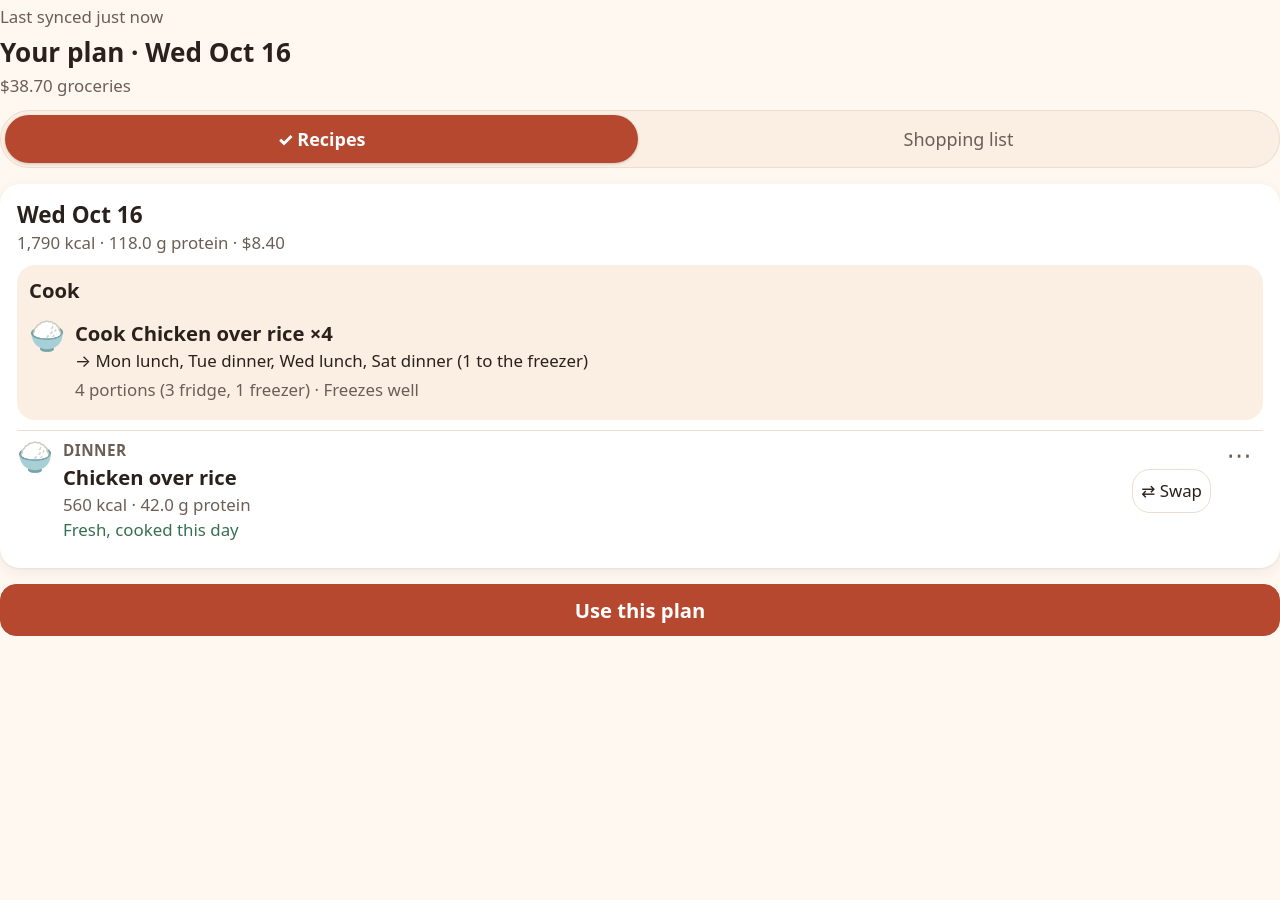
Test: a swap on a draft plan › shows the new meal, the toast with Undo, and follows the new version
Click the button with aria-label "Swap Chicken over rice" at (1172,491), box [1132,469,1211,513]
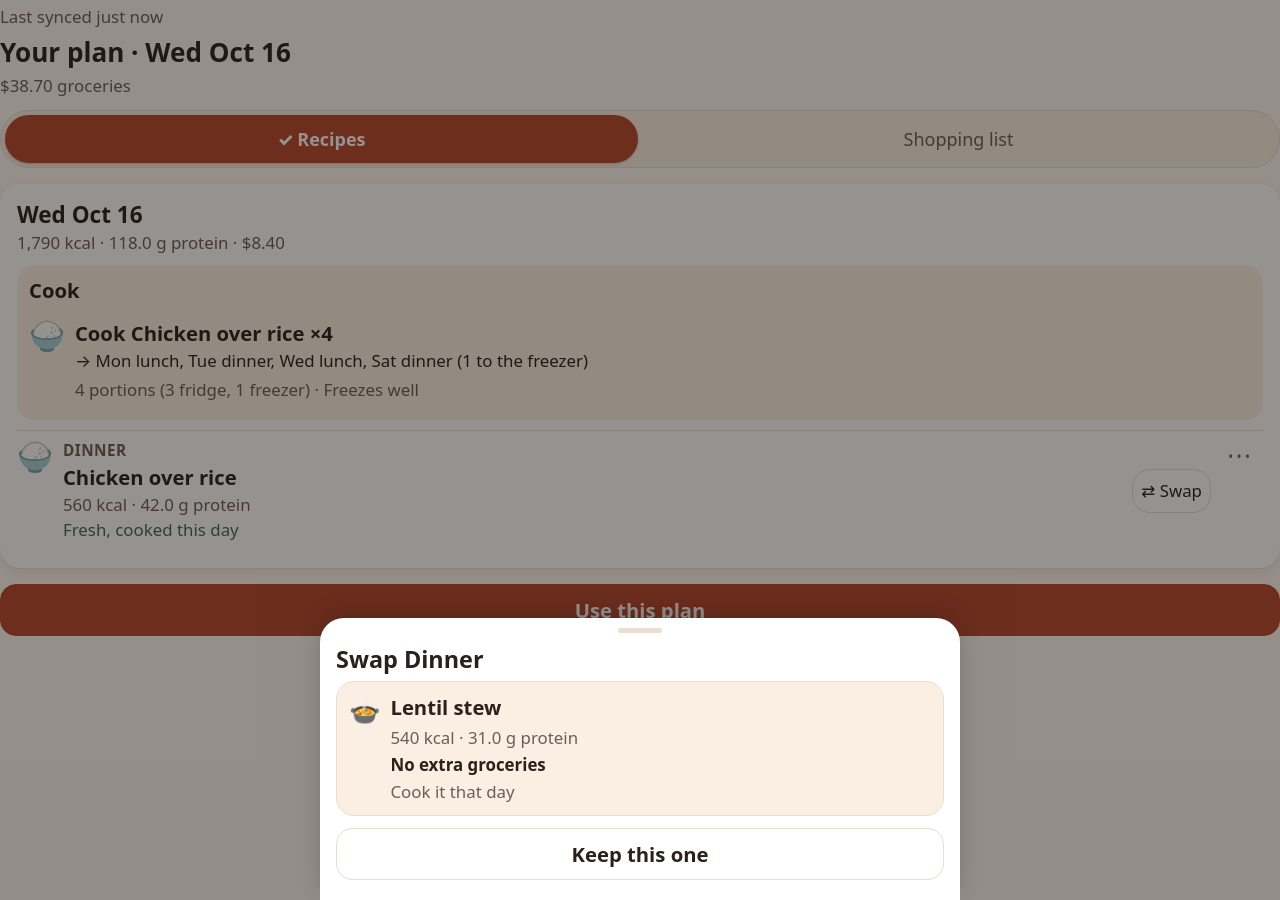
Click the button with aria-label "Swap to Lentil stew" at (365,710), box [336,681,944,816]
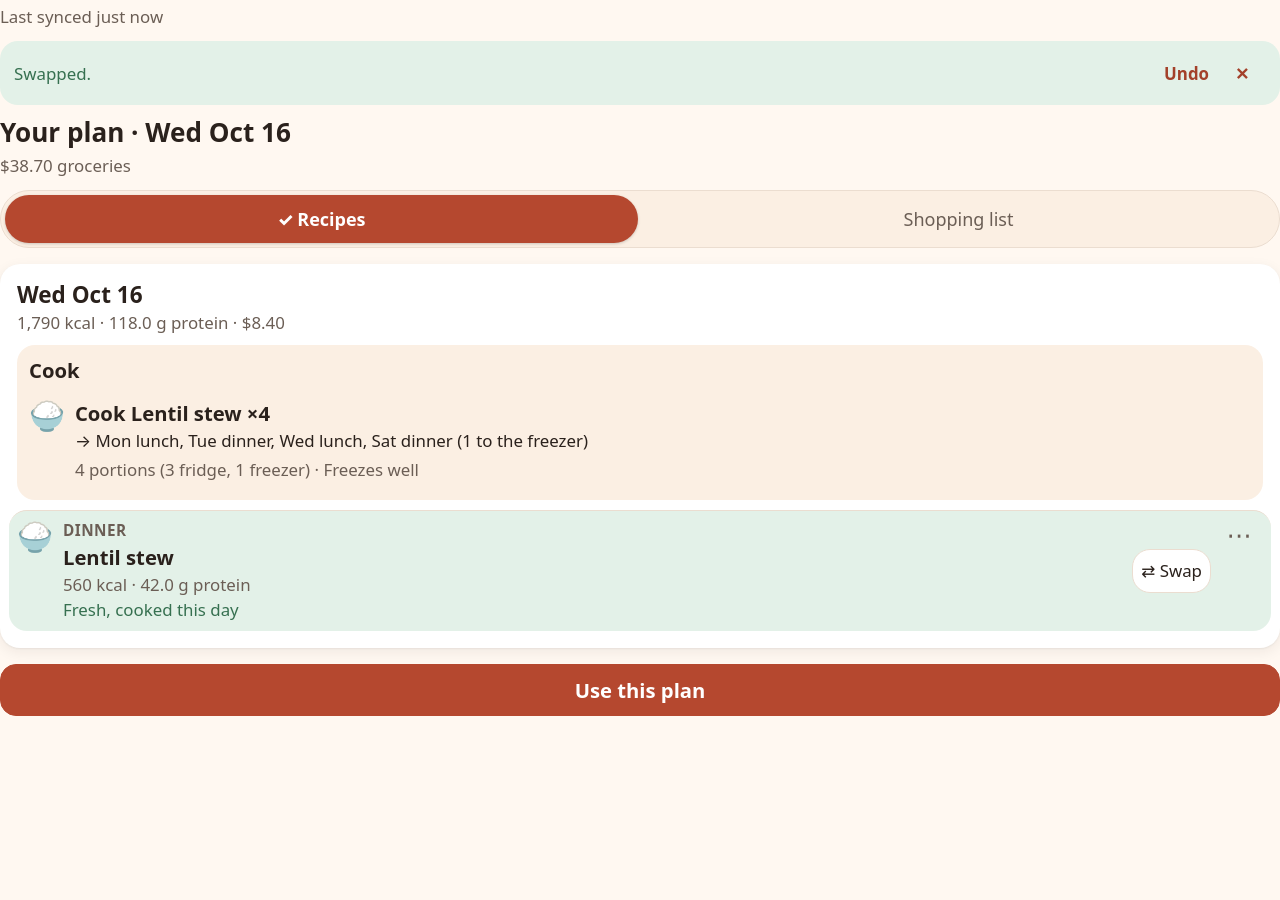
Check: the text "Lentil stew" is shown, box [63,543,174,571]
Check: the link "Chicken over rice" is gone
Check: the message shows "Swapped.", box [14,62,91,85]
